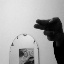h: (33, 16, 63, 42)
